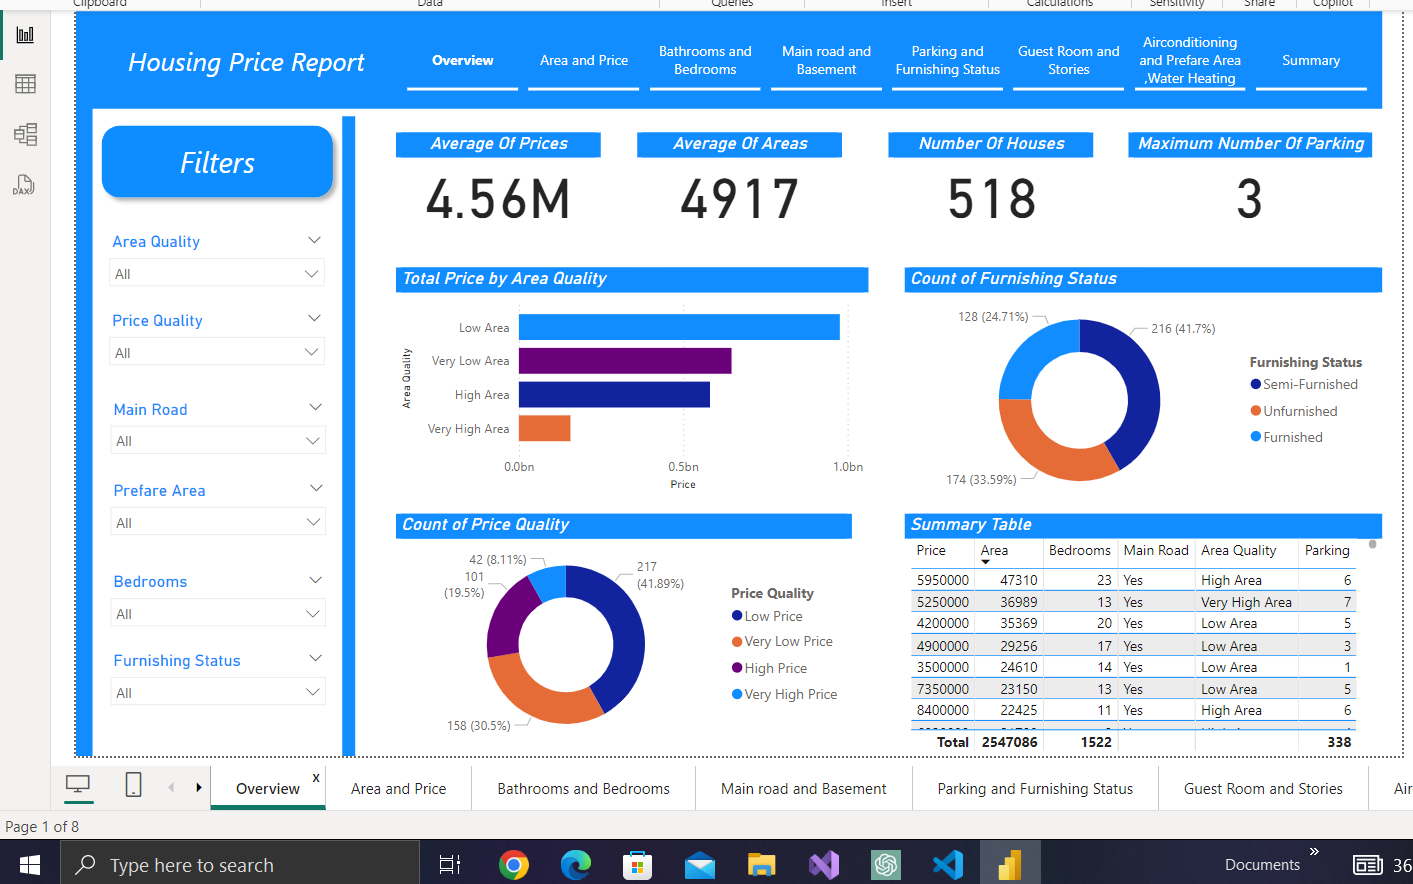

The page's visual inventory and layout, read from the dashboard file:
{"tool":"powerbi","page":{"name":"Overview","canvas":[1280,720],"ordinal":0},"visuals":[{"type":"shape","box":[0,93.8,16.2,626.2],"z":0},{"type":"shape","box":[16.2,102.5,241.2,87.5],"z":1000},{"type":"slicer","fields":{"Values":["Housing_Prices_Cleaned.Area Quality"]},"box":[21.7,209.9,228,76],"z":2000},{"type":"shape","box":[257.5,102.5,12.5,617.5],"z":3000},{"type":"slicer","fields":{"Values":["Housing_Prices_Cleaned.Price Quality"]},"box":[21.7,285.9,228,76],"z":4000},{"type":"slicer","fields":{"Values":["Housing_Prices_Cleaned.Main Road"]},"box":[22.9,371.6,228,70],"z":5000},{"type":"slicer","fields":{"Values":["Housing_Prices_Cleaned.Prefare Area"]},"box":[22.5,450,228.8,87.5],"z":6000},{"type":"slicer","fields":{"Values":["Housing_Prices_Cleaned.Bedrooms"]},"box":[22.9,538.1,228,76],"z":7000},{"type":"slicer","fields":{"Values":["Housing_Prices_Cleaned.Furnishing Status"]},"box":[22.9,614.1,228,76],"z":8000},{"type":"card","title":"Average Of Prices","fields":{"Values":["Avg(Housing_Prices_Cleaned.Price)"]},"box":[308.8,118.8,197.5,95],"z":9000},{"type":"card","title":"Average Of Areas","fields":{"Values":["Avg(Housing_Prices_Cleaned.Area)"]},"box":[541.2,118.8,197.5,95],"z":10000},{"type":"card","title":"Number Of Houses","fields":{"Values":["CountNonNull(Housing_Prices_Cleaned.Area)"]},"box":[783.8,118.8,197.5,95],"z":11000},{"type":"card","title":"Maximum Number Of Parking","fields":{"Values":["Max(Housing_Prices_Cleaned.Parking)"]},"box":[1016.2,118.8,235,95],"z":12000},{"type":"shape","box":[0,1.2,1260.7,94.1],"z":13000},{"type":"barChart","title":" Total Price by Area Quality ","fields":{"Category":["Housing_Prices_Cleaned.Area Quality"],"Y":["Sum(Housing_Prices_Cleaned.Price)"],"Series":["Housing_Prices_Cleaned.Area Quality"]},"box":[308.8,248.5,456,220.8],"z":14000},{"type":"donutChart","title":"Count of Price Quality ","fields":{"Category":["Housing_Prices_Cleaned.Price Quality"],"Y":["CountNonNull(Housing_Prices_Cleaned.Price Quality)"]},"box":[308.8,486.2,440.4,234],"z":15000},{"type":"donutChart","title":"Count of Furnishing Status","fields":{"Category":["Housing_Prices_Cleaned.Furnishing Status"],"Y":["CountNonNull(Housing_Prices_Cleaned.Furnishing Status)"]},"box":[799.9,248.5,460.9,237.7],"z":16000},{"type":"tableEx","title":"Summary Table","fields":{"Values":["Housing_Prices_Cleaned.Price","Sum(Housing_Prices_Cleaned.Area)","Sum(Housing_Prices_Cleaned.Bedrooms)","Housing_Prices_Cleaned.Main Road","Housing_Prices_Cleaned.Area Quality","Sum(Housing_Prices_Cleaned.Parking)"]},"box":[799.9,486.2,460.9,234],"z":17000},{"type":"pageNavigator","box":[319.7,16.9,927.8,61.5],"z":18000}]}

Visuals, with their boxes on the page's 1280x720 design canvas (x1, y1, x2, y2). These are canvas units, not pixel positions in the 1413x884 screenshot, which may show the page scaled, cropped or inside an application window:
shape: {"left": 0, "top": 94, "right": 16, "bottom": 720}
shape: {"left": 16, "top": 102, "right": 257, "bottom": 190}
slicer - Housing_Prices_Cleaned.Area Quality: {"left": 22, "top": 210, "right": 250, "bottom": 286}
shape: {"left": 258, "top": 102, "right": 270, "bottom": 720}
slicer - Housing_Prices_Cleaned.Price Quality: {"left": 22, "top": 286, "right": 250, "bottom": 362}
slicer - Housing_Prices_Cleaned.Main Road: {"left": 23, "top": 372, "right": 251, "bottom": 442}
slicer - Housing_Prices_Cleaned.Prefare Area: {"left": 22, "top": 450, "right": 251, "bottom": 538}
slicer - Housing_Prices_Cleaned.Bedrooms: {"left": 23, "top": 538, "right": 251, "bottom": 614}
slicer - Housing_Prices_Cleaned.Furnishing Status: {"left": 23, "top": 614, "right": 251, "bottom": 690}
"Average Of Prices" card: {"left": 309, "top": 119, "right": 506, "bottom": 214}
"Average Of Areas" card: {"left": 541, "top": 119, "right": 739, "bottom": 214}
"Number Of Houses" card: {"left": 784, "top": 119, "right": 981, "bottom": 214}
"Maximum Number Of Parking" card: {"left": 1016, "top": 119, "right": 1251, "bottom": 214}
shape: {"left": 0, "top": 1, "right": 1261, "bottom": 95}
" Total Price by Area Quality " barChart: {"left": 309, "top": 248, "right": 765, "bottom": 469}
"Count of Price Quality " donutChart: {"left": 309, "top": 486, "right": 749, "bottom": 720}
"Count of Furnishing Status" donutChart: {"left": 800, "top": 248, "right": 1261, "bottom": 486}
"Summary Table" tableEx: {"left": 800, "top": 486, "right": 1261, "bottom": 720}
pageNavigator: {"left": 320, "top": 17, "right": 1248, "bottom": 78}
